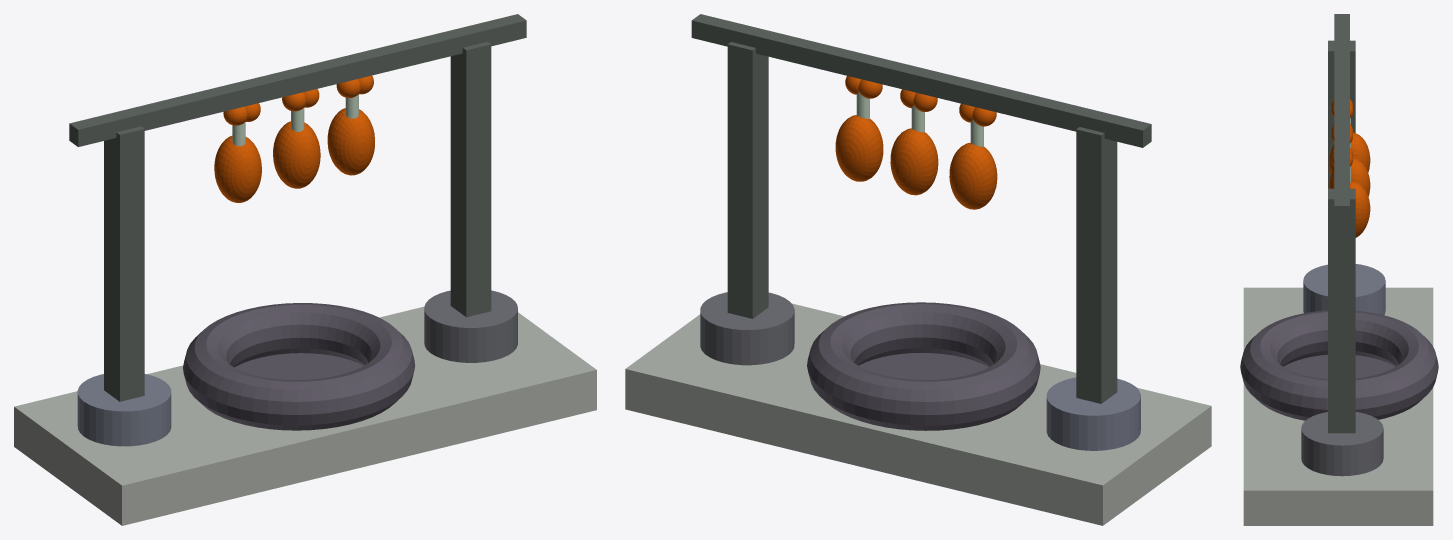
Rendered from Tavuk Ocağı.fbx.
3 renders of one model, left to right at view 1: azimuth 30°, elevation 25°; view 2: azimuth 150°, elevation 25°; view 3: azimuth 270°, elevation 25°, orthographic. The views are drawn at different scales.
Visible parts, largest first — view 1: Cylinder; view 2: Cylinder; view 3: Cylinder.
Part boxes in pixels (box(x1,y1,x2,y2)): Cylinder: box(14, 14, 596, 525); Cylinder: box(625, 14, 1211, 525); Cylinder: box(1240, 14, 1438, 525).
Size of the model in its own units: 274 by 196 by 113.
